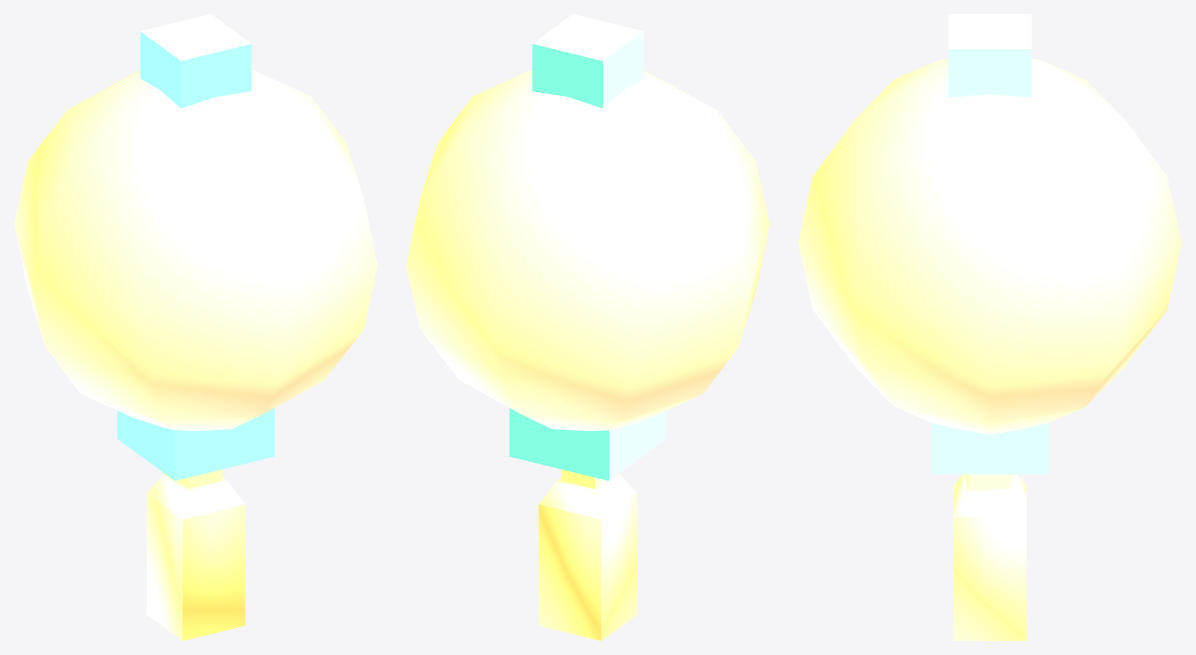
File: cutepack2023lantern02.fbx
3 views of the same model, side by side, from view 1: azimuth 30°, elevation 25°; view 2: azimuth 150°, elevation 25°; view 3: azimuth 270°, elevation 25° (orthographic).
Parts seen in each view (by area): view 1: Circle.005, Cube.015; view 2: Circle.005, Cube.015; view 3: Circle.005, Cube.015.
Part boxes in pixels (x1,y1,x2,y2): Circle.005: [14, 70, 377, 430]; Cube.015: [117, 14, 274, 640]; Circle.005: [406, 70, 769, 430]; Cube.015: [509, 14, 666, 640]; Circle.005: [798, 59, 1181, 434]; Cube.015: [931, 14, 1048, 640].
Bounding box in the file's own units: 116 × 198 × 116.
